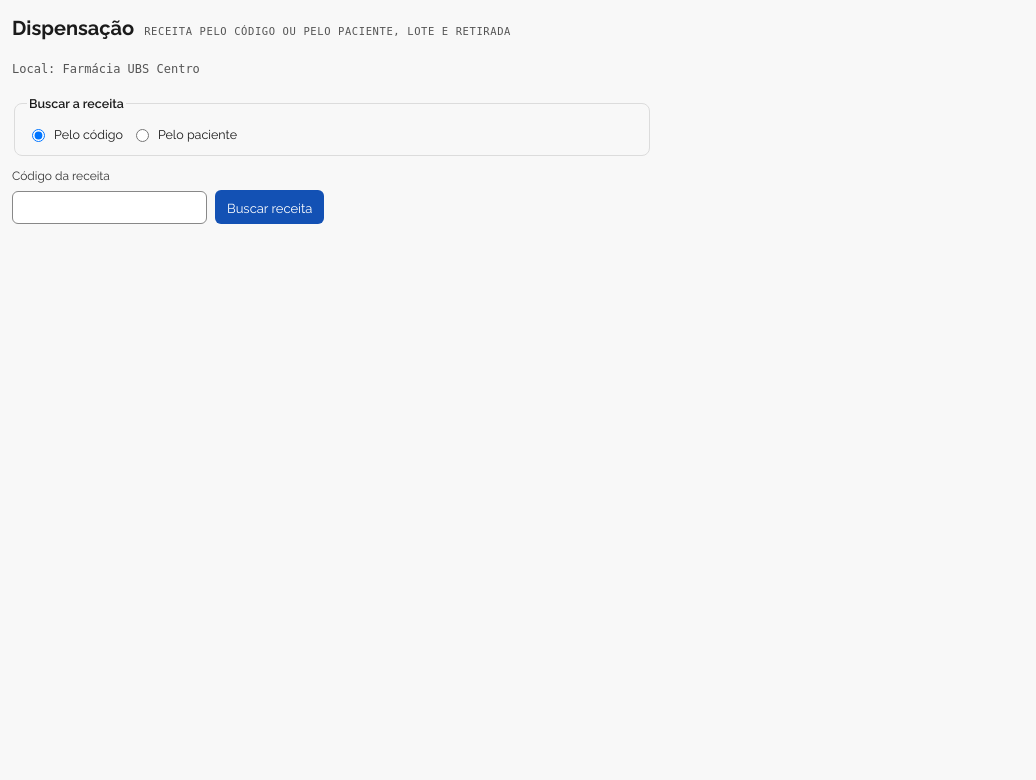
Test: PharmacyDispensing — busca › receita digital de autor sem perfil (prescriber.name null): mostra o conselho e uma frase, nunca "null"
Type "ABCDE23456" into the field labelled "Código da receita".
click(110, 208); type("ABCDE23456")  # box [12,191,207,224]
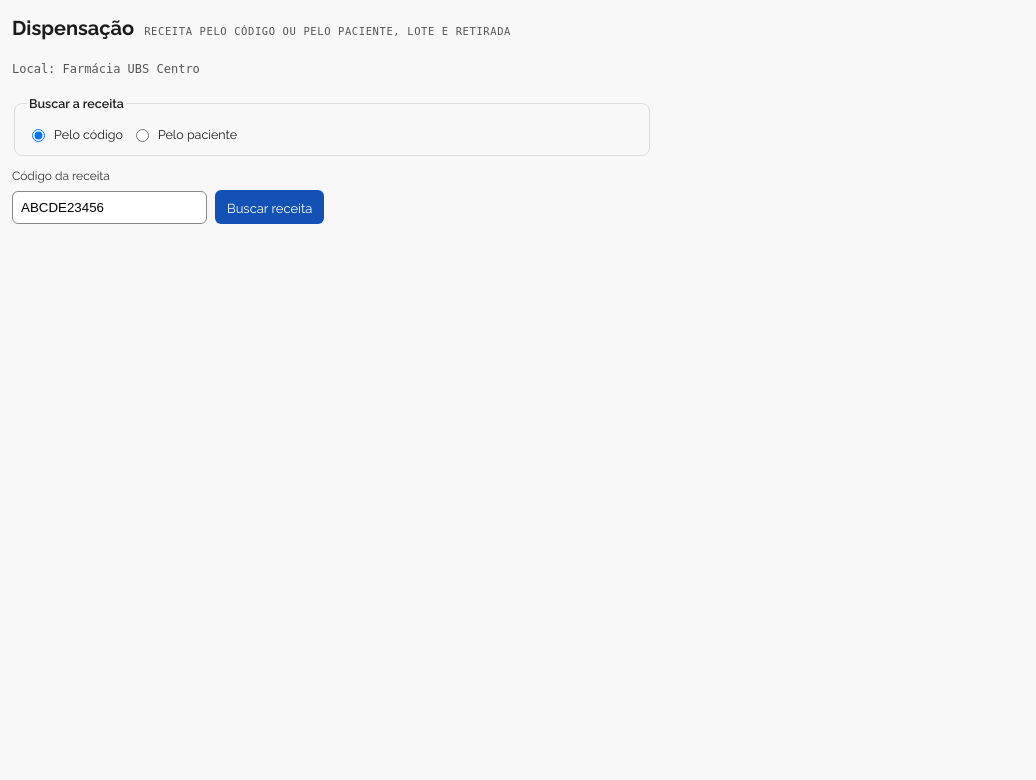
Click the button "Buscar receita".
click(270, 207)  # box [215,190,324,224]
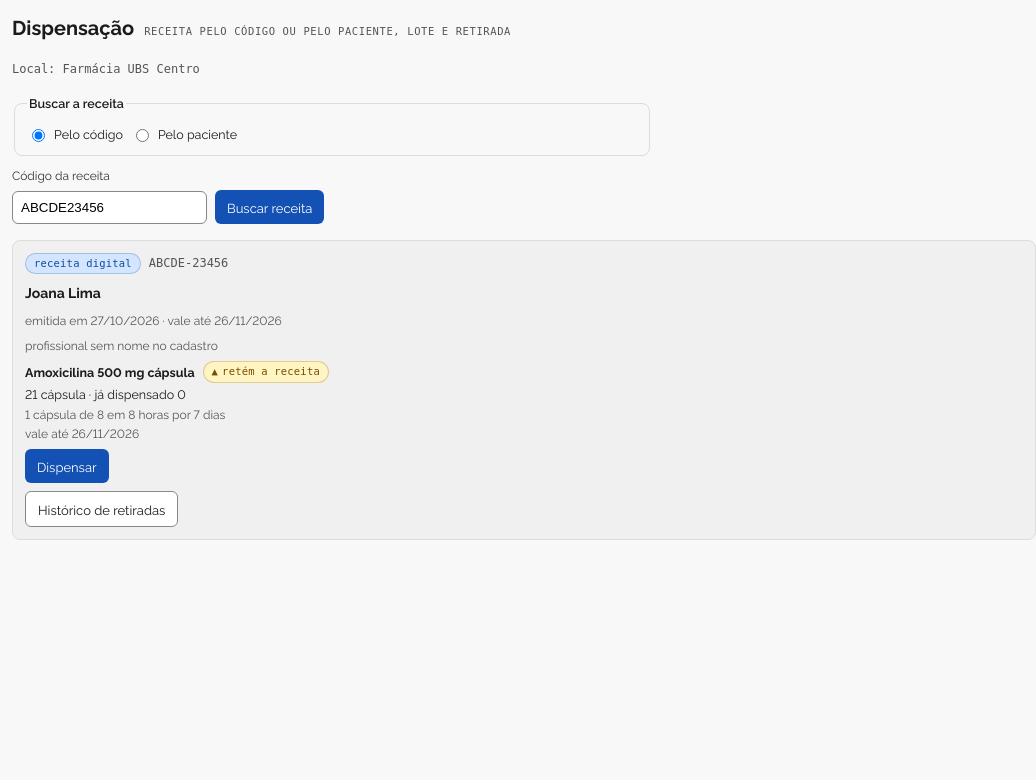
Now the element "Receita digital" shows "profissional sem nome no cadastro", box [25,336,218,353]
